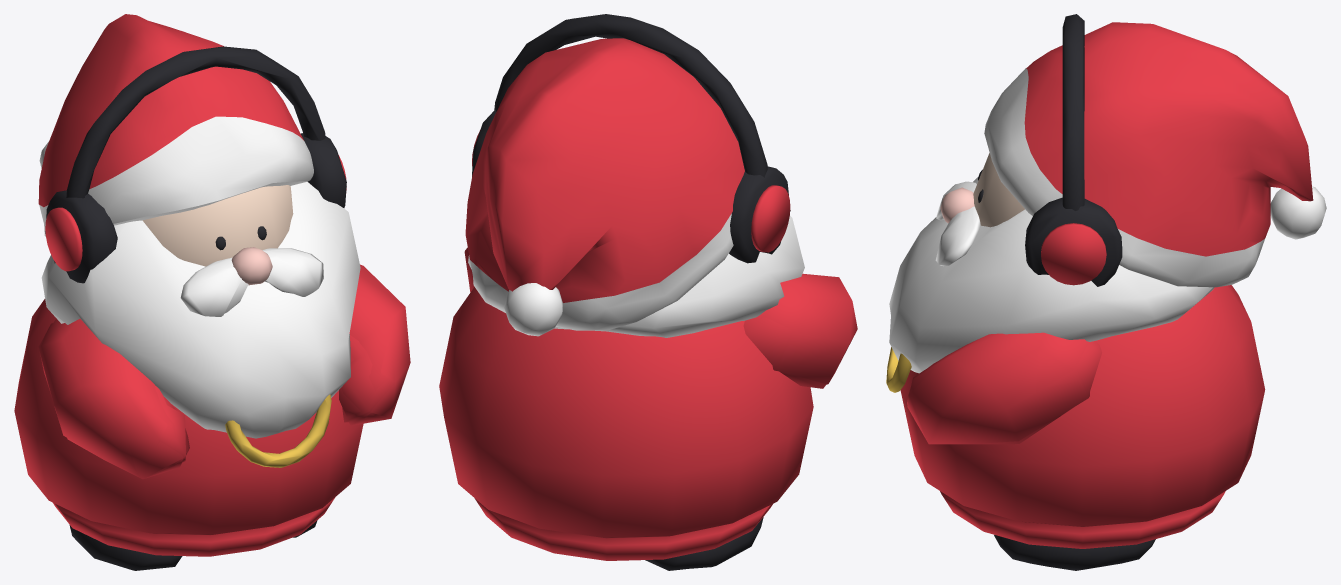
3 renders of one model, left to right at view 1: azimuth 30°, elevation 25°; view 2: azimuth 150°, elevation 25°; view 3: azimuth 270°, elevation 25°, orthographic. The views are drawn at different scales.
Visible parts, largest first — view 1: dj_red, dj_white, dj_black, dj_skin, dj_gold, dj_nose; view 2: dj_red, dj_white, dj_black; view 3: dj_red, dj_white, dj_black, dj_skin, dj_nose, dj_gold.
Boxes of the visible parts, box(x1,y1,x2,y2) form: dj_red: box(14, 14, 410, 556); dj_white: box(39, 116, 360, 438); dj_black: box(45, 46, 346, 570); dj_skin: box(142, 185, 293, 266); dj_gold: box(225, 394, 331, 467); dj_nose: box(231, 247, 272, 285); dj_red: box(439, 38, 857, 560); dj_white: box(468, 213, 804, 337); dj_black: box(472, 14, 790, 570); dj_red: box(900, 22, 1313, 548); dj_white: box(889, 68, 1326, 373); dj_black: box(978, 14, 1155, 570); dj_skin: box(973, 108, 1025, 227); dj_nose: box(940, 187, 974, 223); dj_gold: box(886, 347, 911, 392).
Size of the model in its own units: 2.25 by 3 by 2.41.
